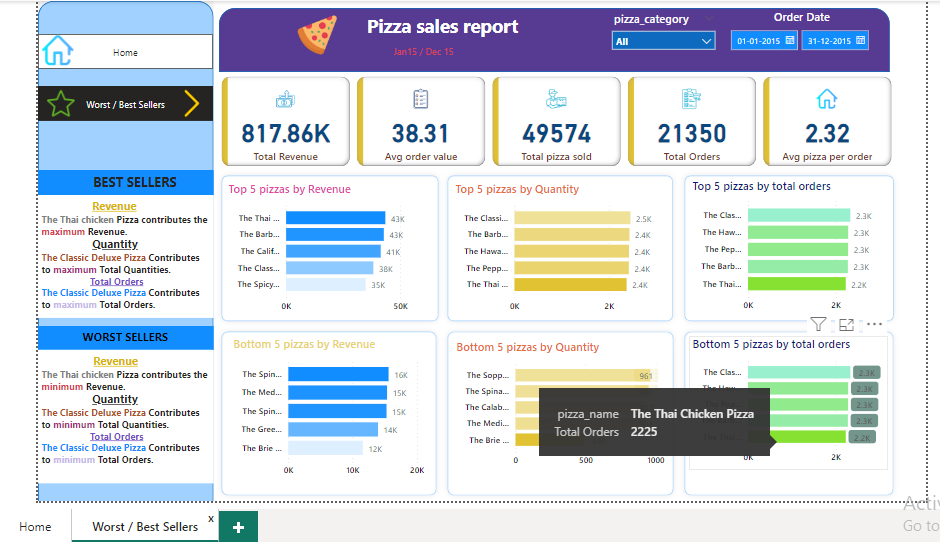

This screenshot's page, from the dashboard's own definition file:
{"tool":"powerbi","page":{"name":"Worst / Best Sellers","canvas":[1280,720],"ordinal":1},"visuals":[{"type":"shape","box":[0,0,252.6,811.4],"z":0},{"type":"shape","box":[260,10,966,92],"z":1000},{"type":"cardVisual","fields":{"Data":["Measure.Total Revenue","Measure.Avg order value","Measure.Total pizza sold","Measure.Total Orders","Measure.Avg pizza per order"]},"box":[259.9,103.7,979.8,139.1],"z":2000},{"type":"shape","box":[256.2,242.8,328.2,225.7],"z":3000},{"type":"barChart","title":"Top 5 pizzas by Revenue ","fields":{"Category":["pizza_sales.pizza_name"],"Y":["Measure.Total Revenue"]},"box":[269.7,258.7,301.4,197.7],"z":4000},{"type":"shape","box":[256.3,468,325.4,252],"z":5000},{"type":"barChart","title":"Bottom 5 pizzas by Revenue ","fields":{"Category":["pizza_sales.pizza_name"],"Y":["Measure.Total Revenue"]},"box":[276.5,482.4,285.1,211.7],"z":6000},{"type":"shape","box":[582,242.8,340.4,225.7],"z":7000},{"type":"barChart","title":"Top 5 pizzas by Quantity","fields":{"Category":["pizza_sales.pizza_name"],"Y":["Measure.Total pizza sold"]},"box":[595.5,258.7,306.3,197.7],"z":8000},{"type":"shape","box":[581.8,468,341.3,252],"z":9000},{"type":"barChart","title":"Bottom 5 pizzas by Quantity","fields":{"Category":["pizza_sales.pizza_name"],"Y":["Measure.Total pizza sold"]},"box":[597.9,486.9,309.9,192.8],"z":10000},{"type":"shape","box":[922.5,242.8,317.3,225.7],"z":11000},{"type":"barChart","title":"Top 5 pizzas by total orders","fields":{"Category":["pizza_sales.pizza_name"],"Y":["Measure.Total Orders"]},"box":[937.1,255,286.7,201.3],"z":12000},{"type":"shape","box":[923,468,316.8,252],"z":13000},{"type":"barChart","title":"Bottom 5 pizzas by total orders","fields":{"Category":["pizza_sales.pizza_name"],"Y":["Measure.Total Orders"]},"box":[937.1,482,286.7,192.8],"z":14000},{"type":"slicer","fields":{"Values":["pizza_sales.pizza_category"]},"box":[817,10,169,90],"z":15000},{"type":"textbox","box":[0,258.7,252.6,42.7],"z":16000},{"type":"textbox","box":[0,242.8,252.6,36.6],"z":17000},{"type":"textbox","box":[0,279.4,252.6,176.9],"z":18000},{"type":"textbox","box":[0,468.6,252.6,34.2],"z":19000},{"type":"textbox","box":[0,502.7,252.6,191.6],"z":20000},{"type":"pageNavigator","box":[0,47.5,252,50.4],"z":21000},{"type":"pageNavigator","box":[0,122.4,252,50.4],"z":22000},{"type":"slicer","title":"Order Date","fields":{"Values":["pizza_sales.order_date"]},"box":[985,11.5,230.4,92.2],"z":23000},{"type":"textbox","box":[449.3,11.5,266.4,61.9],"z":24000},{"type":"textbox","box":[506.9,59,122.4,34.6],"z":25000},{"type":"image","box":[296.6,14.4,210.2,69.1],"z":26000},{"type":"image","box":[0,43.2,56.2,54.7],"z":27000},{"type":"image","box":[191.5,122.4,60.5,50.4],"z":28000},{"type":"image","box":[0,122.4,66.2,50.4],"z":29000}]}

Visuals, with their boxes on the page's 1280x720 design canvas (x1, y1, x2, y2). These are canvas units, not pixel positions in the 940x542 screenshot, which may show the page scaled, cropped or inside an application window:
shape: [x1=0, y1=0, x2=253, y2=811]
shape: [x1=260, y1=10, x2=1226, y2=102]
cardVisual - Measure.Total Revenue x Measure.Avg order value: [x1=260, y1=104, x2=1240, y2=243]
shape: [x1=256, y1=243, x2=584, y2=468]
"Top 5 pizzas by Revenue " barChart: [x1=270, y1=259, x2=571, y2=456]
shape: [x1=256, y1=468, x2=582, y2=720]
"Bottom 5 pizzas by Revenue " barChart: [x1=276, y1=482, x2=562, y2=694]
shape: [x1=582, y1=243, x2=922, y2=468]
"Top 5 pizzas by Quantity" barChart: [x1=596, y1=259, x2=902, y2=456]
shape: [x1=582, y1=468, x2=923, y2=720]
"Bottom 5 pizzas by Quantity" barChart: [x1=598, y1=487, x2=908, y2=680]
shape: [x1=922, y1=243, x2=1240, y2=468]
"Top 5 pizzas by total orders" barChart: [x1=937, y1=255, x2=1224, y2=456]
shape: [x1=923, y1=468, x2=1240, y2=720]
"Bottom 5 pizzas by total orders" barChart: [x1=937, y1=482, x2=1224, y2=675]
slicer - pizza_sales.pizza_category: [x1=817, y1=10, x2=986, y2=100]
textbox: [x1=0, y1=259, x2=253, y2=301]
textbox: [x1=0, y1=243, x2=253, y2=279]
textbox: [x1=0, y1=279, x2=253, y2=456]
textbox: [x1=0, y1=469, x2=253, y2=503]
textbox: [x1=0, y1=503, x2=253, y2=694]
pageNavigator: [x1=0, y1=48, x2=252, y2=98]
pageNavigator: [x1=0, y1=122, x2=252, y2=173]
"Order Date" slicer: [x1=985, y1=12, x2=1215, y2=104]
textbox: [x1=449, y1=12, x2=716, y2=73]
textbox: [x1=507, y1=59, x2=629, y2=94]
image: [x1=297, y1=14, x2=507, y2=84]
image: [x1=0, y1=43, x2=56, y2=98]
image: [x1=192, y1=122, x2=252, y2=173]
image: [x1=0, y1=122, x2=66, y2=173]
